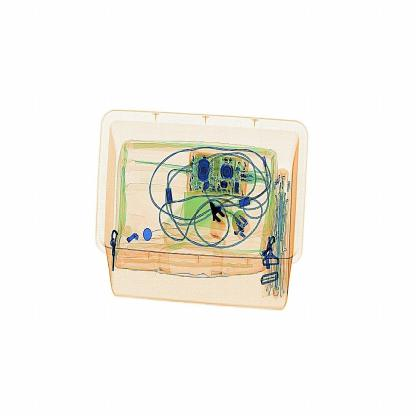gun: (199, 185, 237, 242)
